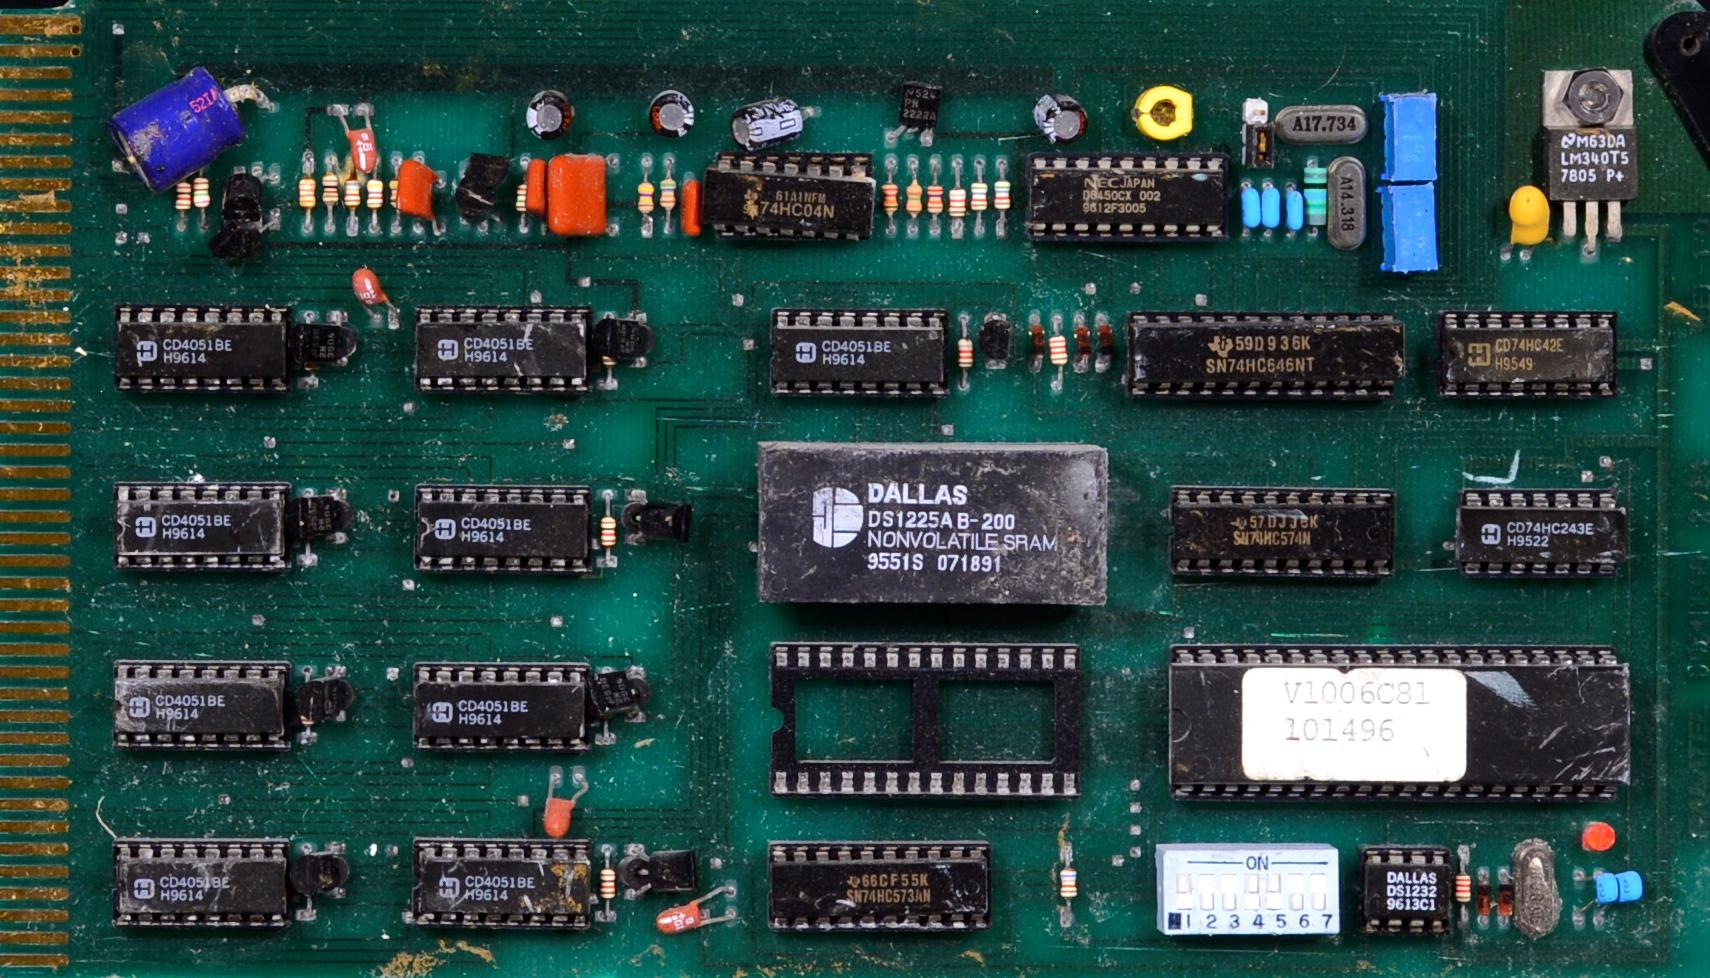Capacitor Jumper: (106, 73, 247, 176), (548, 151, 608, 244), (731, 100, 817, 144), (351, 261, 404, 318), (1037, 88, 1082, 155), (525, 93, 575, 144), (398, 155, 437, 221), (651, 87, 696, 142), (332, 97, 377, 144), (1512, 183, 1567, 221), (526, 157, 551, 225), (1236, 180, 1263, 236), (1260, 177, 1284, 240), (681, 166, 700, 236), (1290, 180, 1311, 235)
IC: (762, 445, 1109, 613), (1131, 317, 1422, 412), (787, 823, 989, 940), (1172, 481, 1386, 592), (408, 478, 610, 587), (750, 299, 943, 405), (119, 294, 292, 403), (1428, 301, 1625, 393), (406, 316, 601, 405), (108, 839, 291, 930), (423, 842, 597, 930), (110, 663, 278, 751), (713, 162, 868, 254), (113, 486, 288, 567), (1463, 478, 1620, 567), (455, 236, 457, 259)
Resistor Jumper: (1051, 859, 1091, 923), (593, 851, 622, 919), (174, 176, 200, 228), (1046, 323, 1070, 378), (1452, 863, 1476, 913), (633, 175, 657, 227), (368, 164, 384, 227), (658, 169, 676, 220), (882, 181, 904, 223), (295, 173, 319, 210), (991, 171, 1010, 218), (945, 186, 970, 217), (318, 169, 338, 208), (970, 176, 990, 215), (516, 177, 534, 216), (386, 163, 402, 210), (195, 170, 210, 217), (345, 176, 364, 214), (930, 180, 945, 225), (602, 510, 619, 551), (904, 182, 923, 215), (952, 335, 971, 360)
iC: (415, 657, 597, 754), (1035, 166, 1225, 245)
